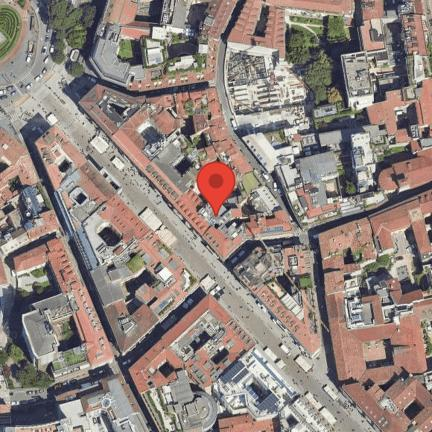area_open: (0, 2, 92, 137), (232, 57, 309, 122)
built: (241, 4, 432, 224), (38, 128, 196, 366), (83, 88, 247, 256), (131, 297, 339, 428), (321, 192, 432, 428), (12, 236, 114, 371), (89, 3, 232, 87), (225, 1, 355, 64), (241, 247, 314, 357), (0, 380, 147, 431), (6, 132, 58, 256), (219, 168, 293, 253)
vegetation_high: (289, 23, 354, 115), (48, 4, 100, 78), (3, 349, 58, 395)
